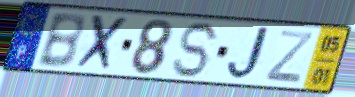8: (128, 17, 176, 77)
B: (34, 12, 86, 71)
J: (225, 25, 276, 84)
S: (170, 20, 223, 80)
X: (71, 12, 132, 75)
Z: (262, 28, 316, 85)
